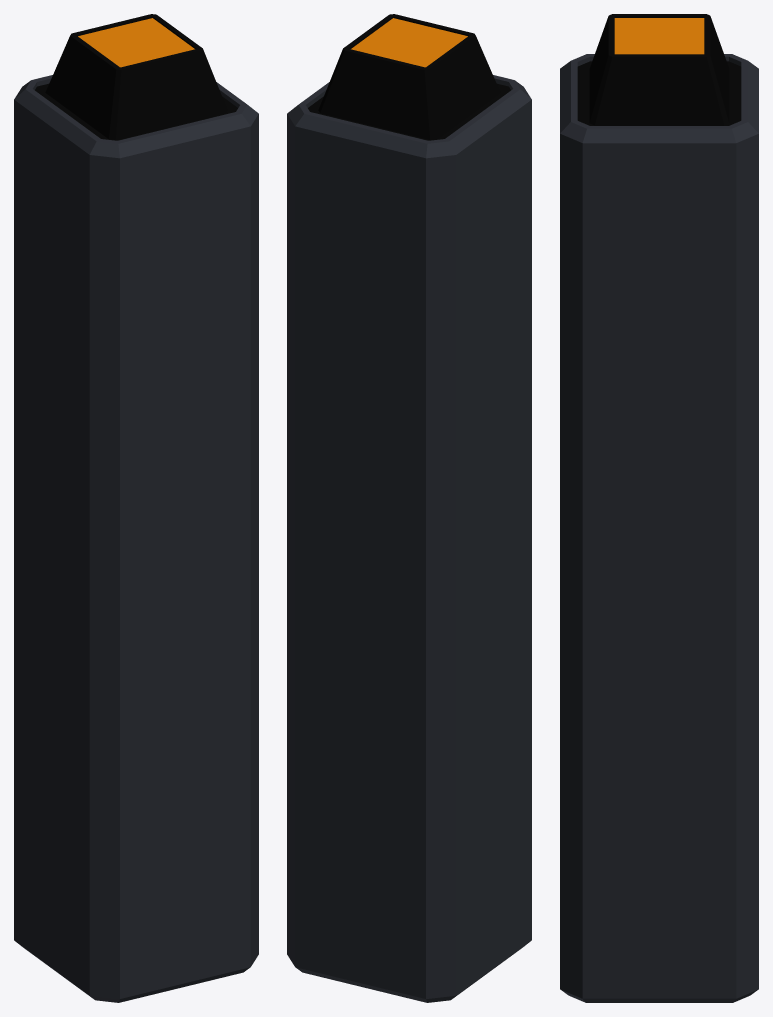
The model's file is SM_Railing_Divider_Post.glb.
3 renders of one model, left to right at view 1: azimuth 30°, elevation 25°; view 2: azimuth 150°, elevation 25°; view 3: azimuth 270°, elevation 25°, orthographic.
Visible parts, largest first — view 1: SM_Railing_Divider_Post; view 2: SM_Railing_Divider_Post; view 3: SM_Railing_Divider_Post.
Boxes of the visible parts, x1,y1,x2,y2 form: SM_Railing_Divider_Post: [14, 14, 258, 1002]; SM_Railing_Divider_Post: [287, 14, 531, 1002]; SM_Railing_Divider_Post: [560, 14, 758, 1002].
Size of the model in its own units: 4 by 20.62 by 4.
